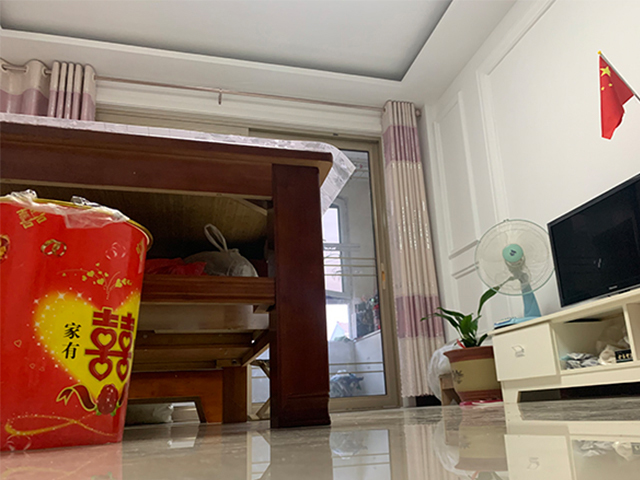cabinet: (487, 286, 640, 403)
curtain: (380, 99, 445, 399)
table: (1, 119, 334, 429)
trashcan: (1, 195, 153, 451)
